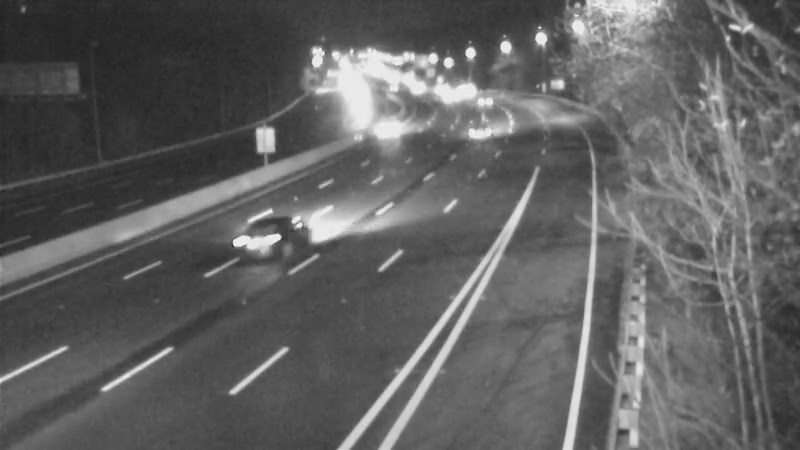vehicle: (230, 205, 310, 285), (441, 62, 491, 112), (418, 72, 468, 122), (463, 74, 513, 124), (364, 102, 414, 152), (449, 108, 499, 158)
